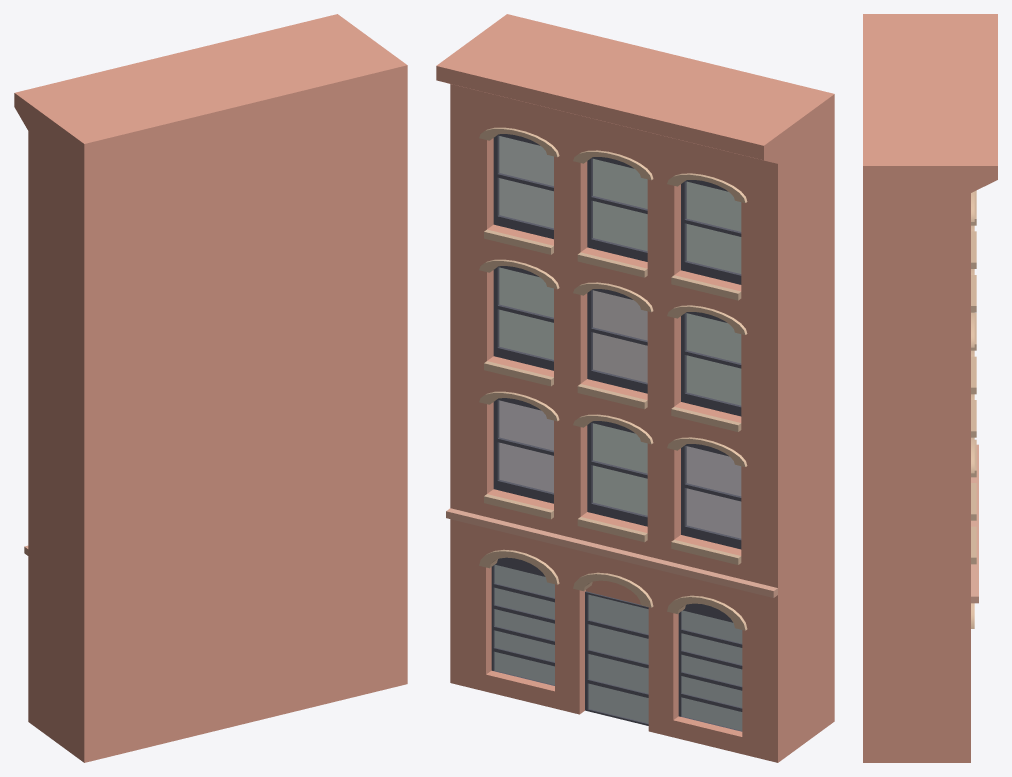
The model's file is KA_Facade_05.fbx.
3 views of the same model, side by side, from view 1: azimuth 30°, elevation 25°; view 2: azimuth 150°, elevation 25°; view 3: azimuth 270°, elevation 25° (orthographic). The views are drawn at different scales.
Visible parts, largest first — view 1: Batiment_05; view 2: Batiment_05; view 3: Batiment_05.
Boxes of the visible parts, <box> form: Batiment_05: <box>14,14,407,762</box>; Batiment_05: <box>436,14,834,762</box>; Batiment_05: <box>863,14,997,762</box>.
Size of the model in its own units: 394 by 720 by 148.
